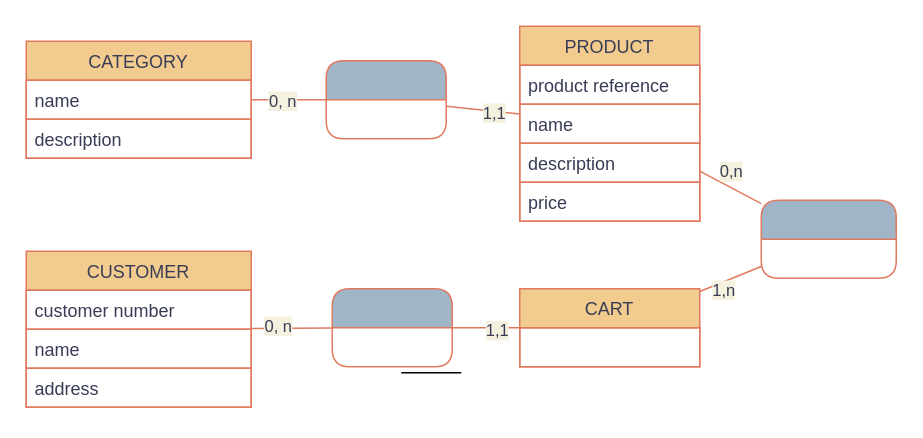
Some shapes in this 923 by 438 pixel diagram are drawn without their labels. The centre of each missing label's shape, as x and y in pixels:
"CONTAINS" belongs at (x=385, y=99).
"date" belongs at (x=609, y=346).
"HAS" belongs at (x=391, y=327).
"IS IN" belongs at (x=828, y=238).
